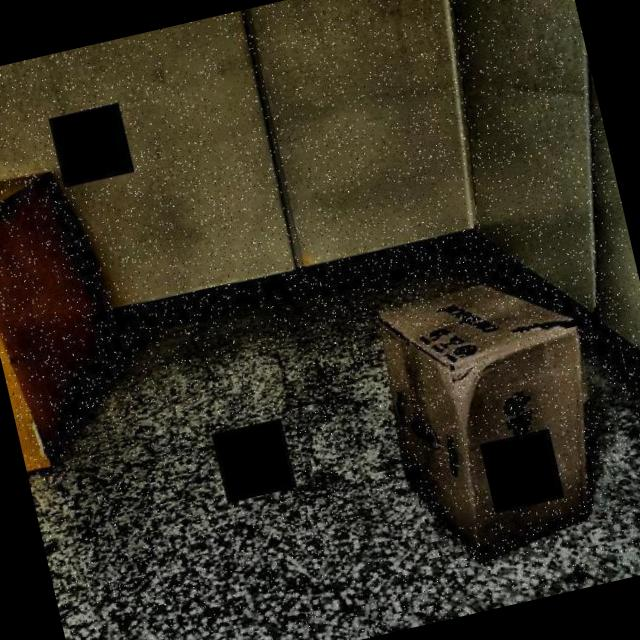box: (333, 247, 640, 604)
